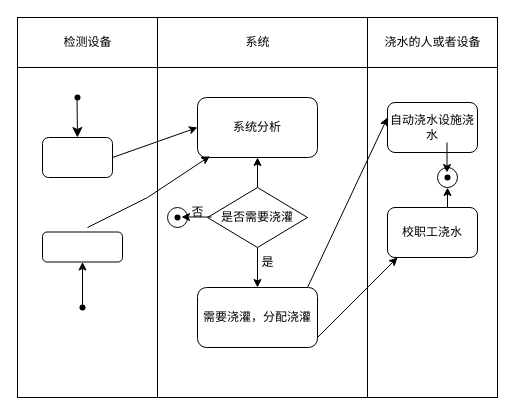
The diagram is 515 pixels wide and 415 high, and some of its shapes have lost their labels. Each missing label, with the centre of its shape:
"未来气象" goes at (82,246).
"检测土壤湿度" goes at (77,157).
